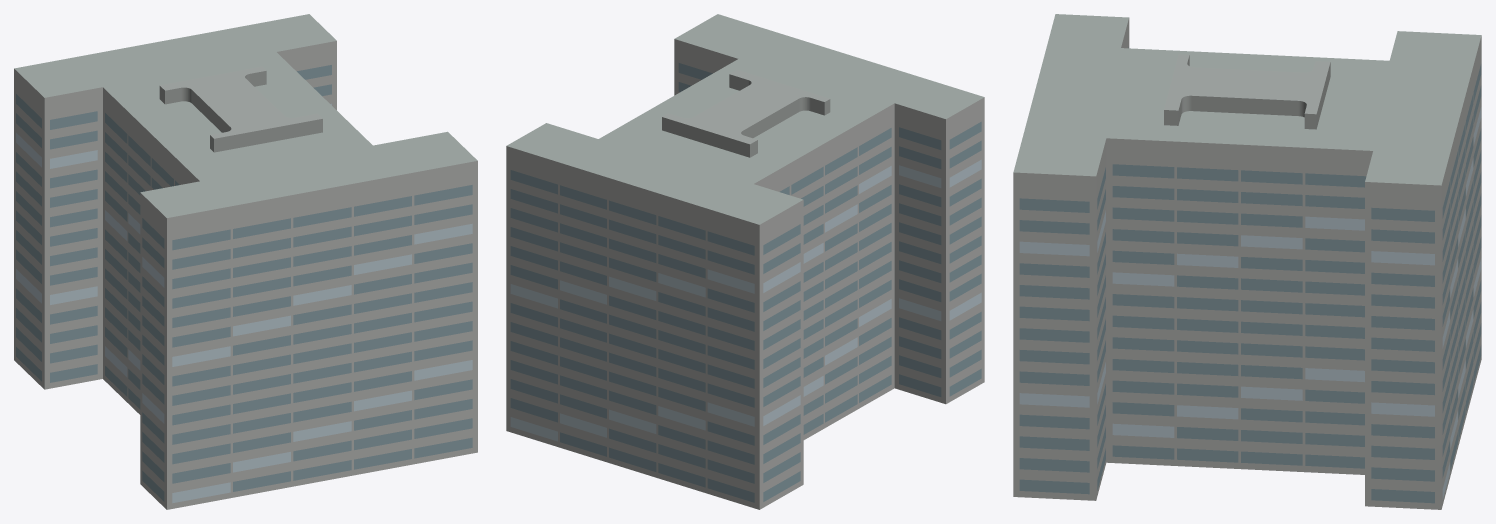
File: apt-a10024666.glb
3 renders of one model, left to right at view 1: azimuth 30°, elevation 25°; view 2: azimuth 150°, elevation 25°; view 3: azimuth 270°, elevation 25°, orthographic. The views are drawn at different scales.
Parts seen in each view (by area): view 1: apt-a10024666; view 2: apt-a10024666; view 3: apt-a10024666.
Part boxes in pixels (box(x1,y1,x2,y2)): apt-a10024666: box(14, 14, 477, 509); apt-a10024666: box(506, 14, 984, 509); apt-a10024666: box(1013, 14, 1481, 509).
Bounding box in the file's own units: 51.97 × 48 × 59.96.
